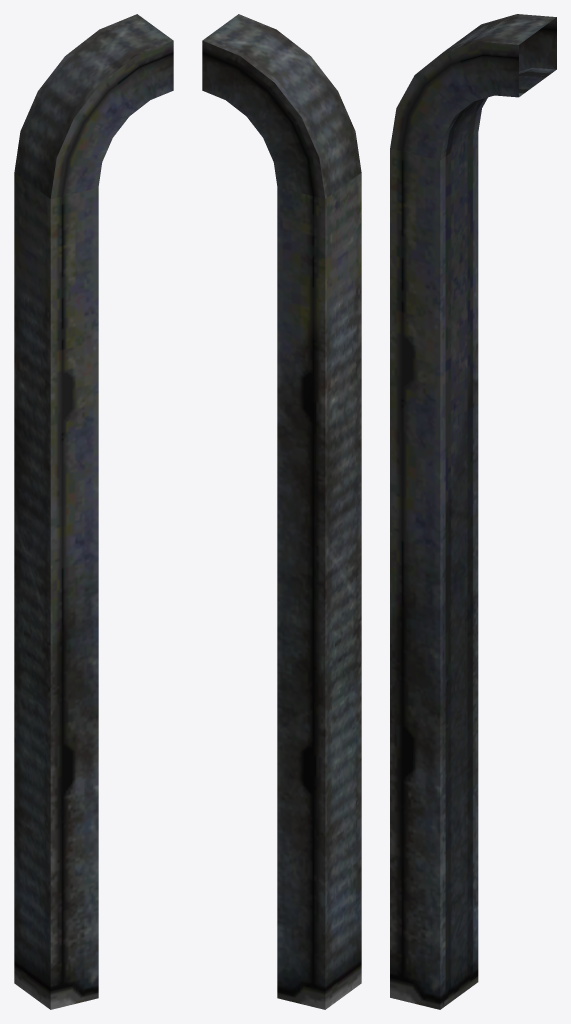
File: railing_end.dae
3 renders of one model, left to right at view 1: azimuth 30°, elevation 25°; view 2: azimuth 150°, elevation 25°; view 3: azimuth 330°, elevation 25°, orthographic. The views are drawn at different scales.
Parts seen in each view (by area): view 1: railing_end; view 2: railing_end; view 3: railing_end.
Part boxes in pixels (bbox=[...]): railing_end: bbox=[14, 14, 173, 1009]; railing_end: bbox=[202, 14, 361, 1009]; railing_end: bbox=[390, 14, 556, 1009].
Size of the model in its own units: 0.1635 by 1.19 by 0.0836.
